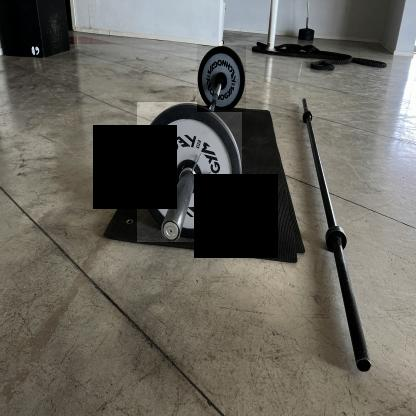barbell: (138, 103, 243, 243), (198, 46, 247, 113)
